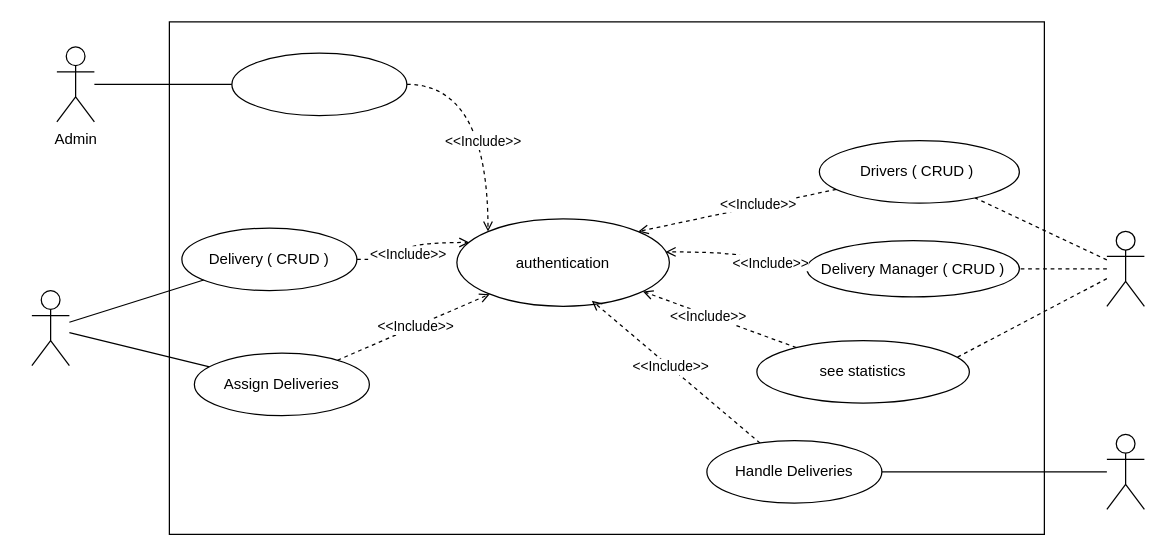
Image size: 1176x558. Some labels were removed from this diagram. The shapes that lost their labels are listed below. From the top down, each one's box as (x1, y1, x2, y2) in pixels, then its label:
(231, 52, 407, 116): Managers ( CRUD )
(1106, 230, 1144, 306): Manager
(31, 289, 69, 366): Delivery Manager
(1106, 433, 1144, 509): Driver
